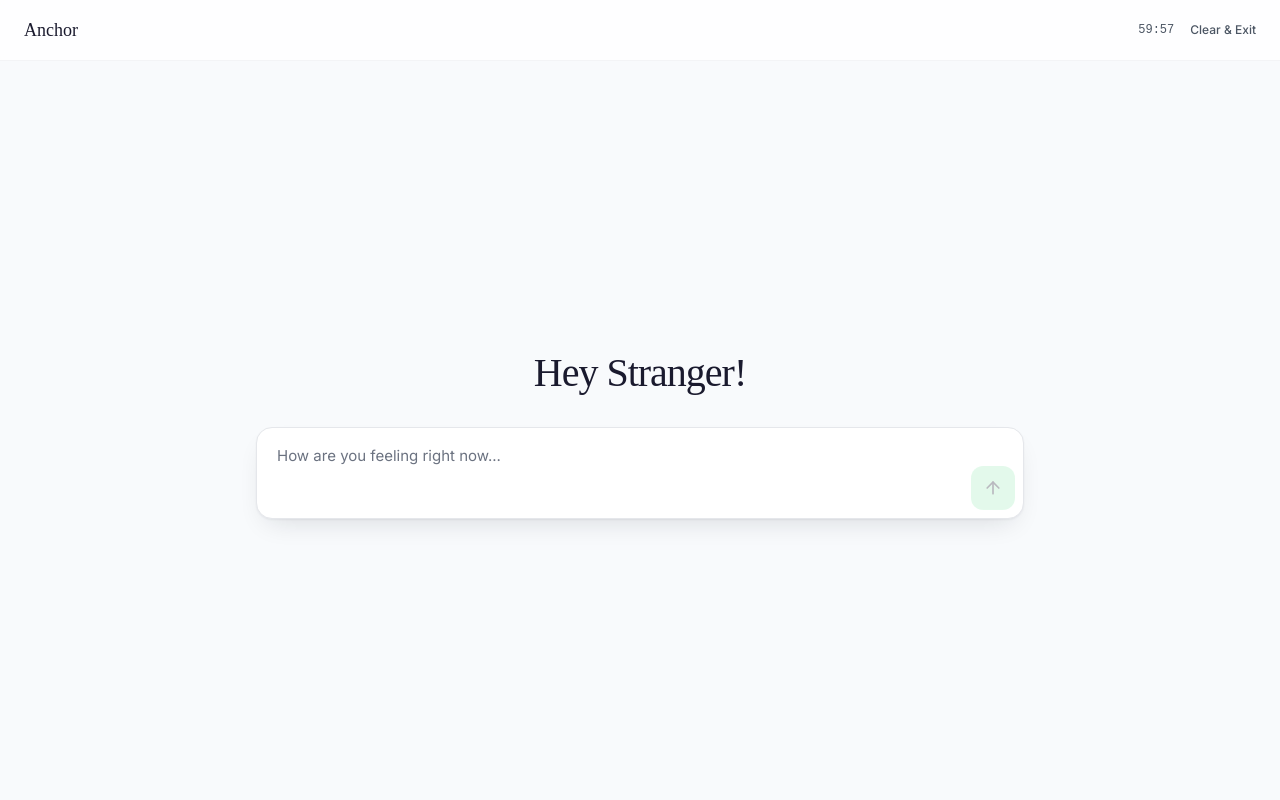
Test case: Chat – Breathing widget signalling › ignores a breathing marker sitting in the message text
Type "hello" into the text box with placeholder "How are you feeling right now..." at (614, 472), box 265,436 -> 963,510
Then press Enter
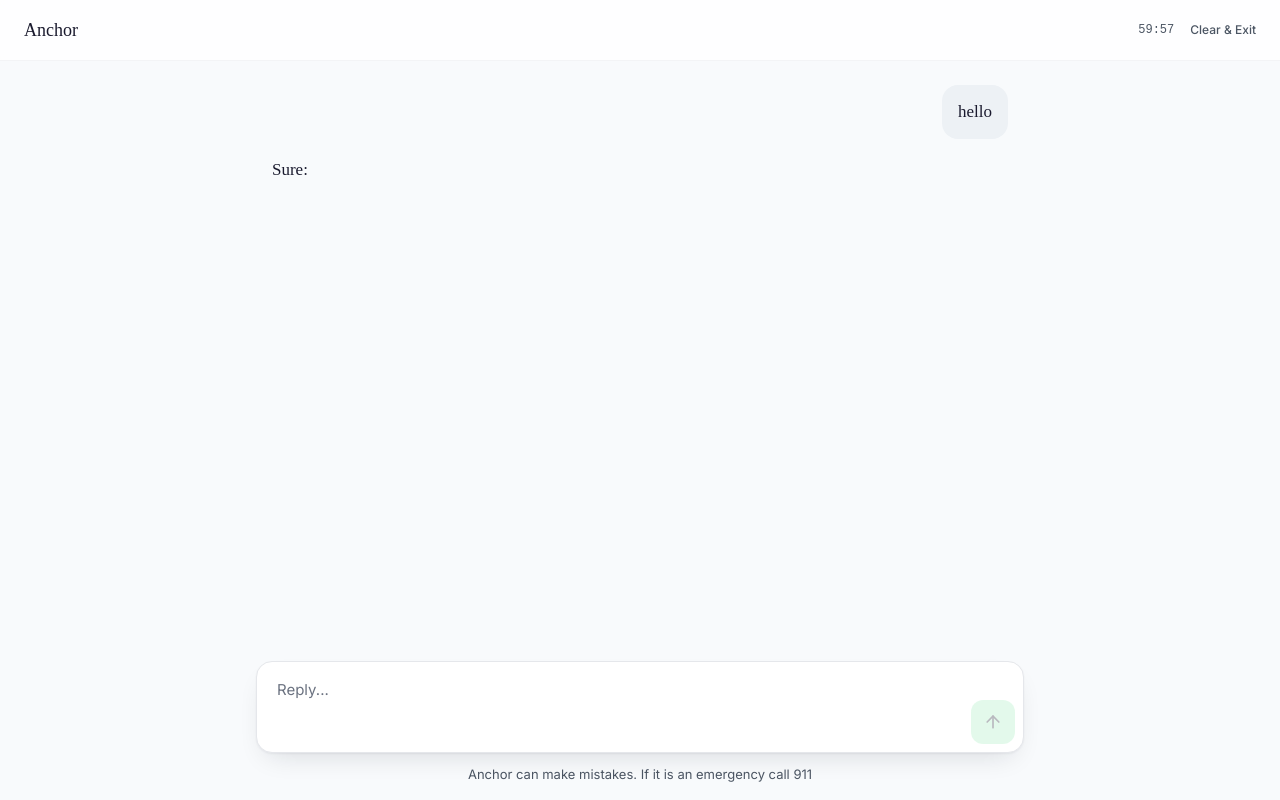
Expected: the text "Sure:" is shown, 272,160 -> 308,179
